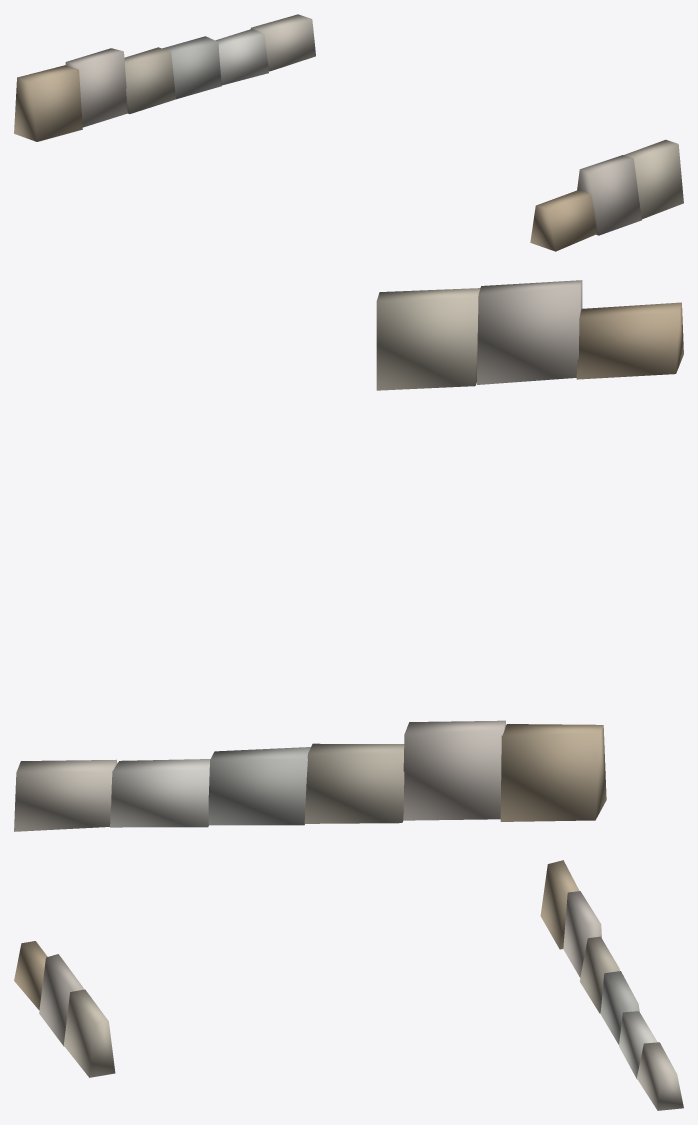
Rendered from farm_-34_-29_far.glb.
3 views of the same model, one above another, from view 1: azimuth 30°, elevation 25°; view 2: azimuth 150°, elevation 25°; view 3: azimuth 270°, elevation 25° (orthographic). The views are drawn at different scales.
Parts seen in each view (by area): view 1: geometry_0; view 2: geometry_0; view 3: geometry_0.
Part boxes in pixels (<box>): geometry_0: <box>14,14,683,251</box>; geometry_0: <box>14,280,683,831</box>; geometry_0: <box>14,860,683,1110</box>.
Bounding box in the file's own units: 10.74 × 3.56 × 16.54.
